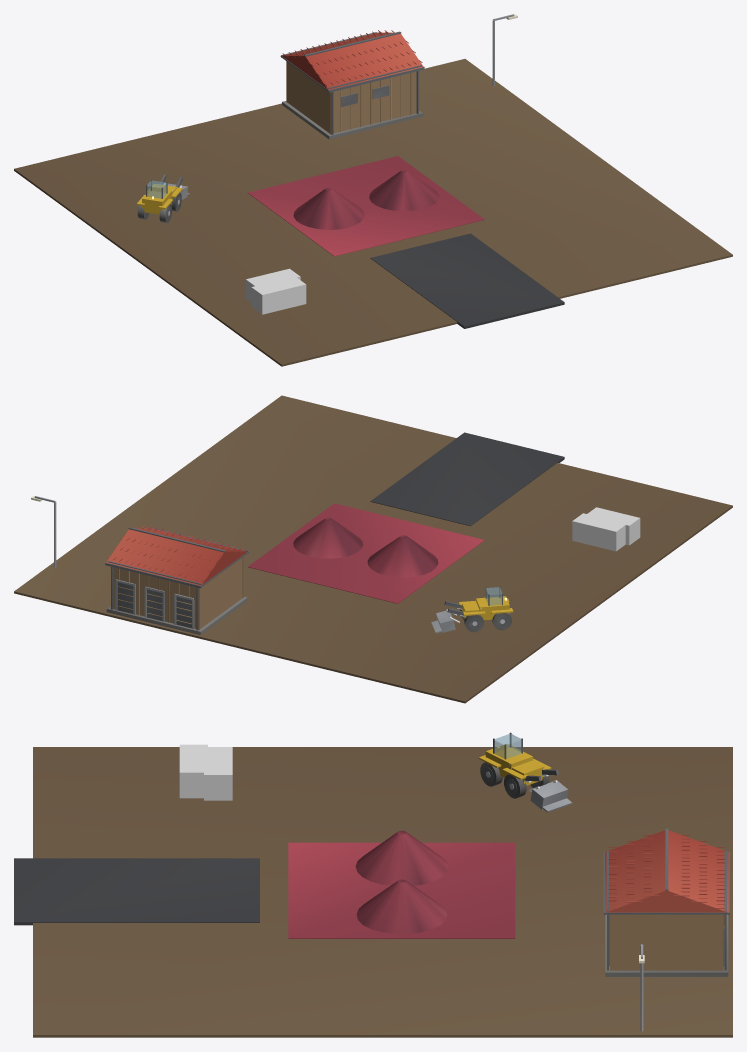
Rendered from Depot_P1.fbx.
3 renders of one model, top to bottom at view 1: azimuth 30°, elevation 25°; view 2: azimuth 150°, elevation 25°; view 3: azimuth 270°, elevation 25°, orthographic. The views are drawn at different scales.
Parts seen in each view (by area): view 1: Depot.Yard, Depot.Shed1, Depot.Containers, Depot.Pile0, Depot.Pile1, Depot.Loader; view 2: Depot.Yard, Depot.Shed1, Depot.Containers, Depot.Loader, Depot.Pile0, Depot.Pile1; view 3: Depot.Yard, Depot.Shed1, Depot.Loader, Depot.Pile0, Depot.Pile1, Depot.Containers.
Part boxes in pixels (x1=…): Depot.Yard: x1=14, y1=59, x2=732, y2=366; Depot.Shed1: x1=280, y1=30, x2=424, y2=139; Depot.Containers: x1=245, y1=268, x2=306, y2=314; Depot.Pile0: x1=293, y1=187, x2=364, y2=229; Depot.Pile1: x1=369, y1=170, x2=439, y2=210; Depot.Loader: x1=136, y1=174, x2=189, y2=222; Depot.Yard: x1=14, y1=395, x2=732, y2=703; Depot.Shed1: x1=105, y1=525, x2=248, y2=634; Depot.Containers: x1=572, y1=507, x2=640, y2=551; Depot.Loader: x1=431, y1=586, x2=513, y2=633; Depot.Pile0: x1=367, y1=535, x2=438, y2=577; Depot.Pile1: x1=293, y1=517, x2=362, y2=558; Depot.Yard: x1=14, y1=747, x2=732, y2=1037; Depot.Shed1: x1=603, y1=828, x2=729, y2=976; Depot.Loader: x1=478, y1=732, x2=572, y2=812; Depot.Pile0: x1=355, y1=830, x2=448, y2=885; Depot.Pile1: x1=356, y1=879, x2=447, y2=933; Depot.Containers: x1=179, y1=744, x2=232, y2=800.
Bounding box in the file's own units: 7469 × 1055 × 7600.
